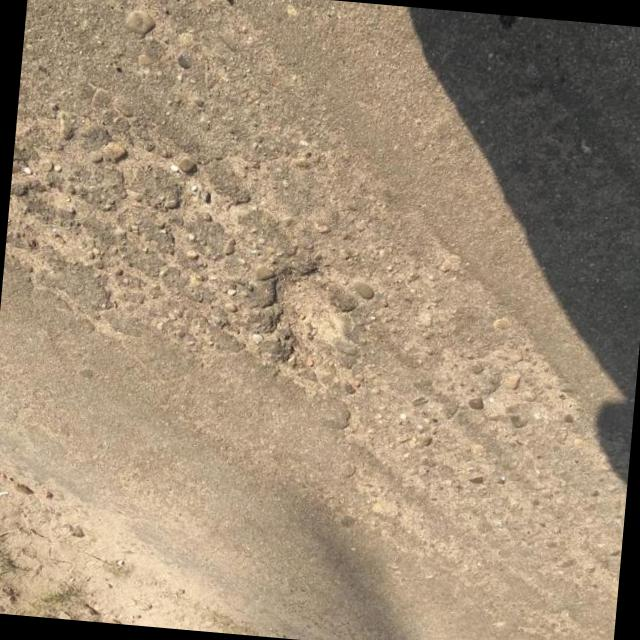pothole: (258, 262, 346, 363)
